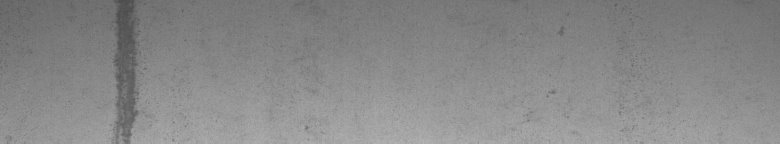hd: (111, 4, 147, 136)
